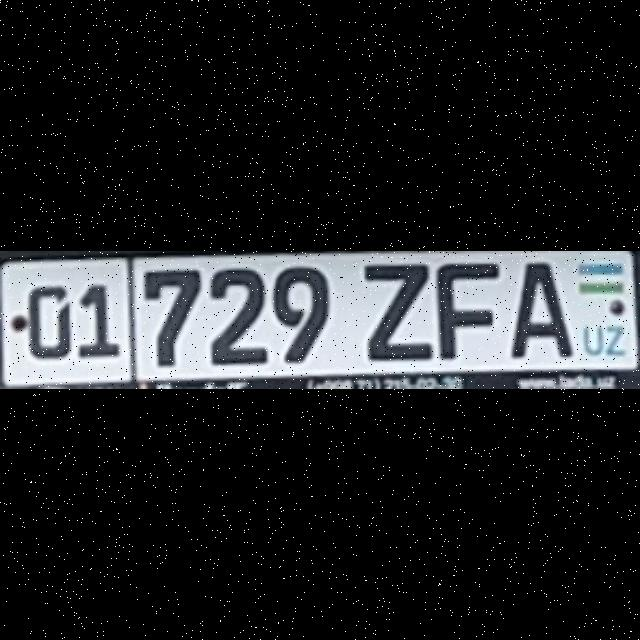0: (27, 283, 68, 355)
1: (76, 281, 118, 355)
2: (206, 266, 266, 364)
7: (140, 268, 200, 364)
9: (268, 262, 328, 362)
A: (508, 260, 570, 354)
F: (434, 259, 496, 357)
Z: (362, 262, 430, 358)
